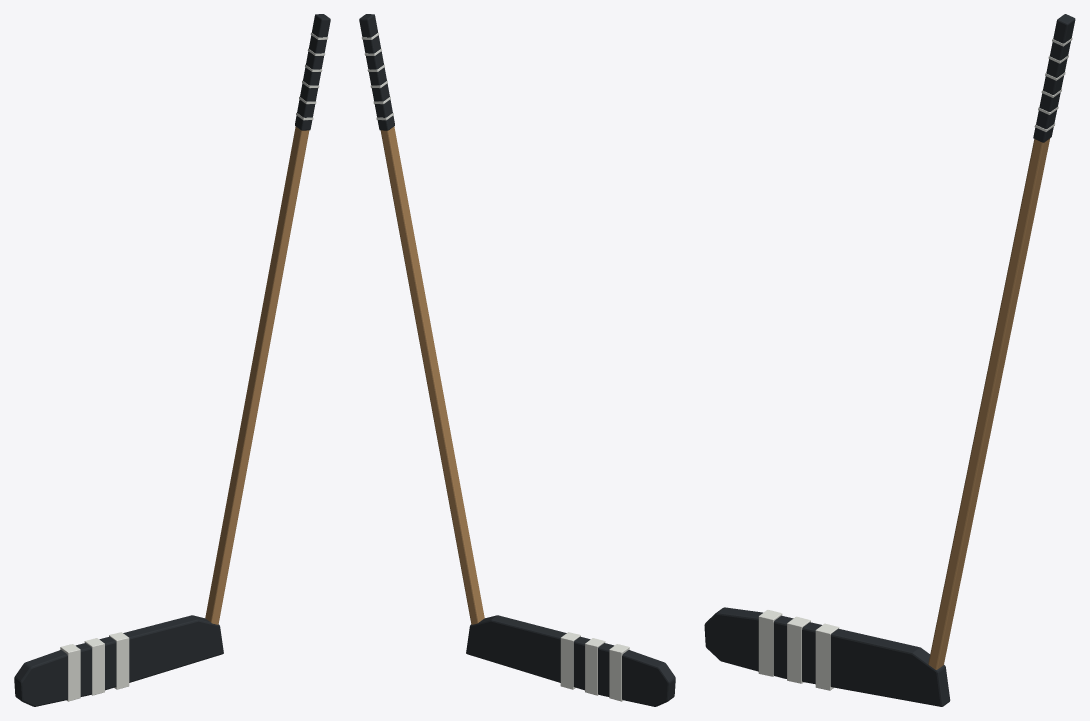
File: hockey_stick.glb
The picture shows the model from 3 angles, left to right: view 1: azimuth 30°, elevation 25°; view 2: azimuth 150°, elevation 25°; view 3: azimuth 330°, elevation 25°; orthographic projection. The views are drawn at different scales.
Visible parts, largest first — view 1: Curved taped hockey blade, Rectangular wooden shaft, Upper black grip, Blade tape band.002, Blade tape band, Blade tape band.001; view 2: Curved taped hockey blade, Rectangular wooden shaft, Upper black grip, Blade tape band.002, Blade tape band, Blade tape band.001; view 3: Curved taped hockey blade, Rectangular wooden shaft, Upper black grip, Blade tape band, Blade tape band.002, Blade tape band.001.
Part boxes in pixels (x1,y1,x2,y2): Curved taped hockey blade: [14, 615, 223, 706]; Rectangular wooden shaft: [205, 126, 309, 624]; Upper black grip: [295, 14, 330, 130]; Blade tape band.002: [109, 632, 129, 689]; Blade tape band: [60, 644, 80, 701]; Blade tape band.001: [84, 638, 104, 695]; Curved taped hockey blade: [466, 615, 675, 706]; Rectangular wooden shaft: [380, 126, 484, 624]; Upper black grip: [359, 14, 394, 130]; Blade tape band.002: [560, 632, 580, 689]; Blade tape band: [609, 644, 629, 701]; Blade tape band.001: [585, 638, 605, 695]; Curved taped hockey blade: [704, 607, 950, 706]; Rectangular wooden shaft: [928, 138, 1049, 669]; Upper black grip: [1033, 14, 1075, 142]; Blade tape band: [758, 610, 782, 676]; Blade tape band.002: [815, 623, 839, 690]; Blade tape band.001: [787, 616, 810, 683].
Size of the model in its own units: 0.8307 by 1.59 by 0.0366.
